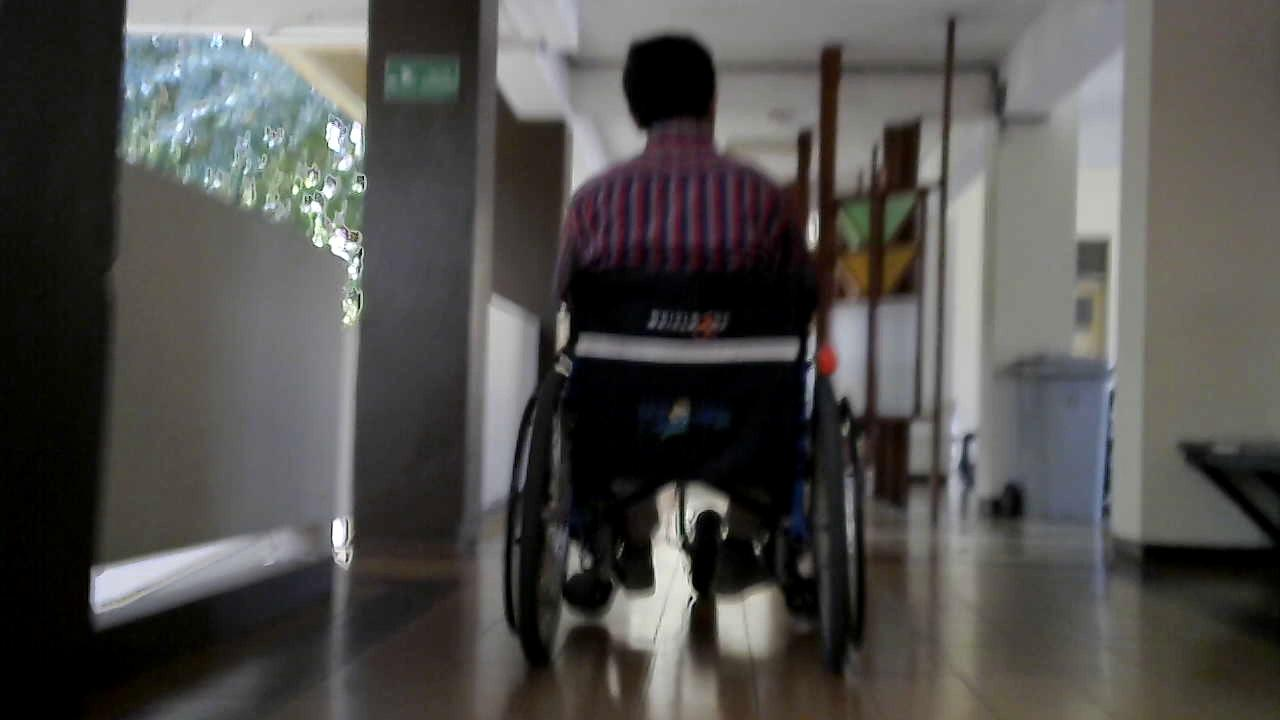person: (531, 30, 818, 642)
wheelchair: (472, 242, 882, 674)
